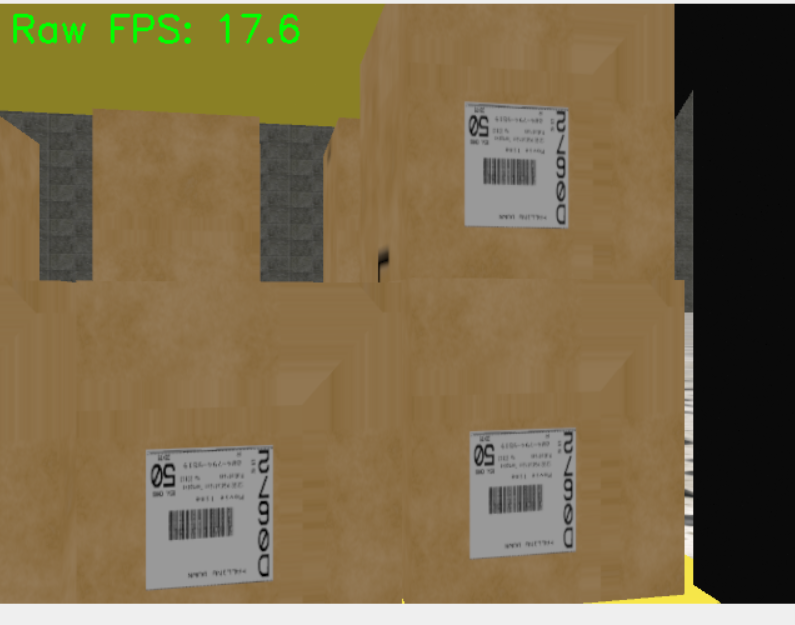barcode: (143, 444, 277, 590), (469, 426, 577, 559), (463, 100, 570, 230)
